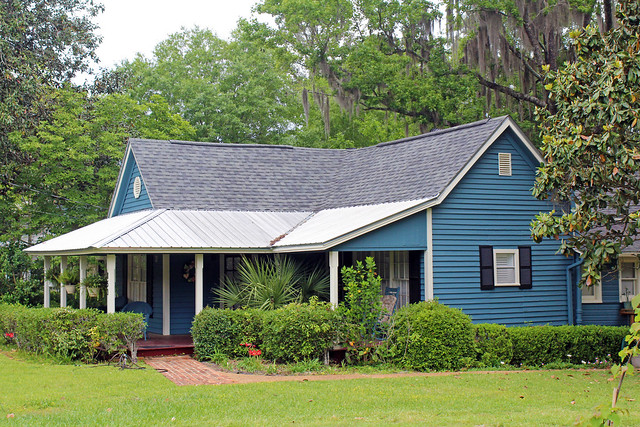medium: (21, 113, 632, 370)
